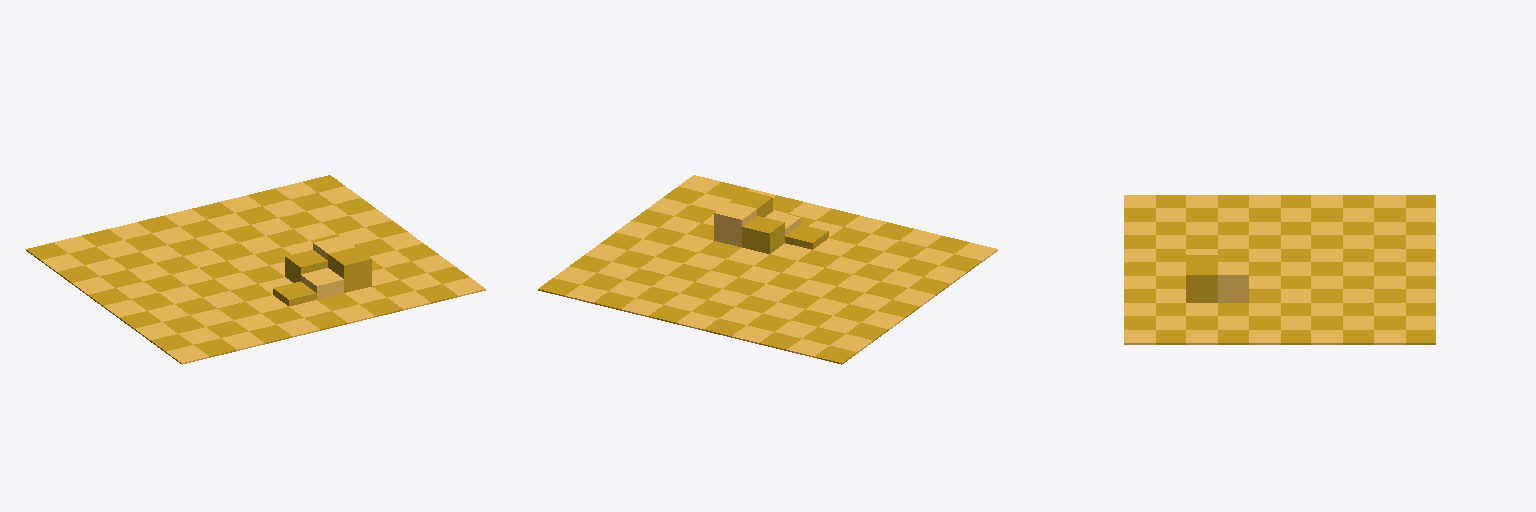
3 views of the same model, side by side, from view 1: azimuth 30°, elevation 25°; view 2: azimuth 150°, elevation 25°; view 3: azimuth 270°, elevation 25° (orthographic).
Visible parts, largest first — view 1: object 1; view 2: object 1; view 3: object 1.
Part boxes in pixels (bbox=[...]): object 1: bbox=[26, 175, 485, 364]; object 1: bbox=[538, 175, 997, 364]; object 1: bbox=[1124, 195, 1435, 344].
Size of the model in its own units: 23.1 by 2.1 by 20.5.
Materials: 1 (1 with a texture image).